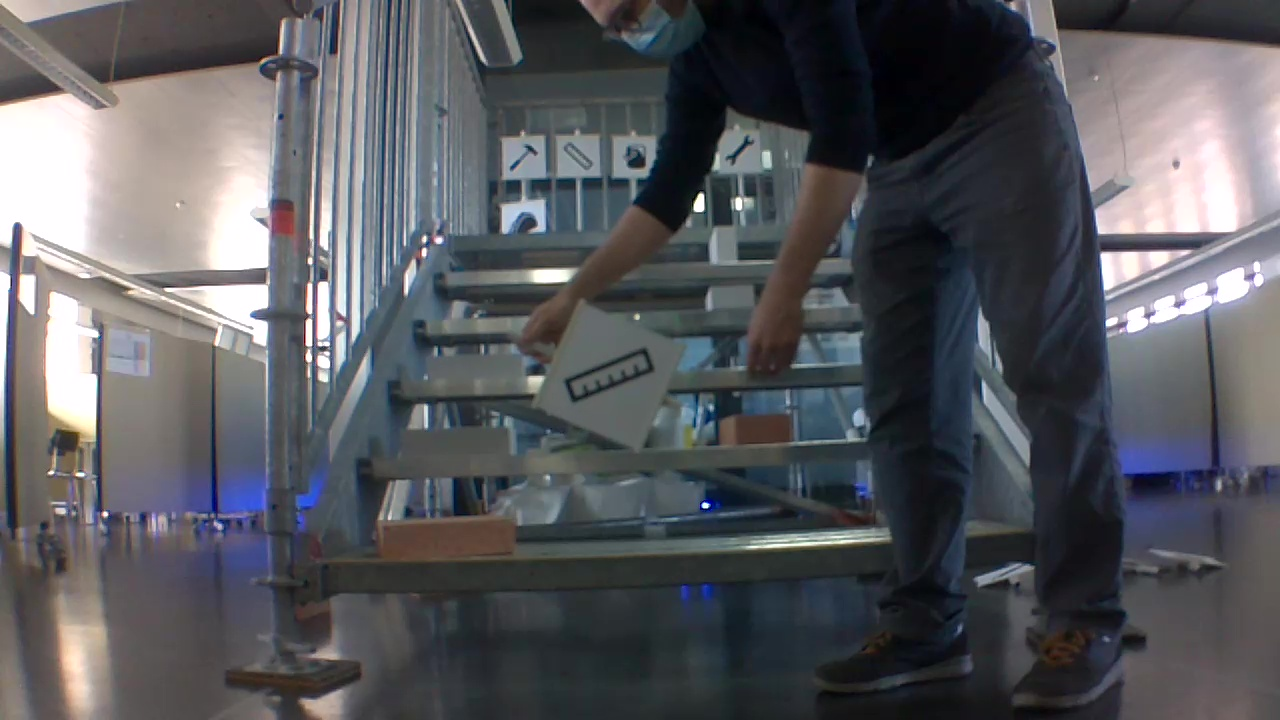brick: (369, 509, 514, 565), (395, 424, 508, 459), (719, 413, 797, 454), (422, 354, 524, 379), (705, 281, 754, 309), (712, 225, 741, 263)
bucket: (625, 141, 648, 171)
hammer: (509, 142, 539, 172)
ruler: (564, 342, 662, 406), (563, 140, 593, 171)
taco: (507, 211, 542, 235)
wrench: (725, 133, 756, 167)
